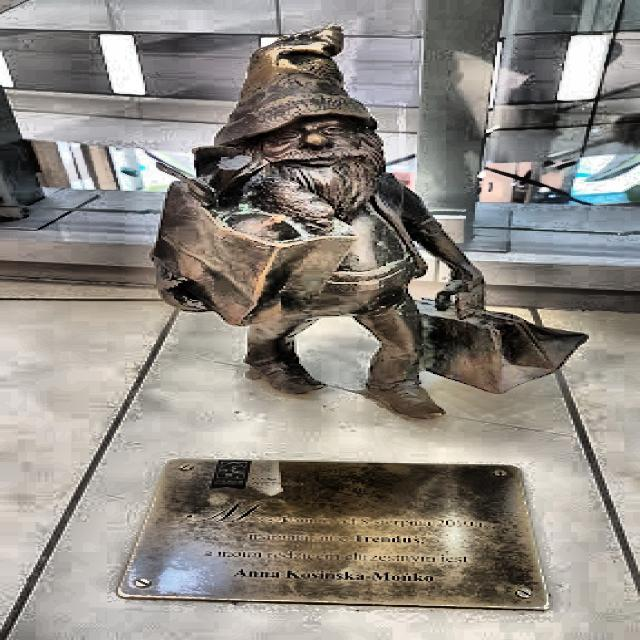Trendus: (151, 26, 586, 418)
